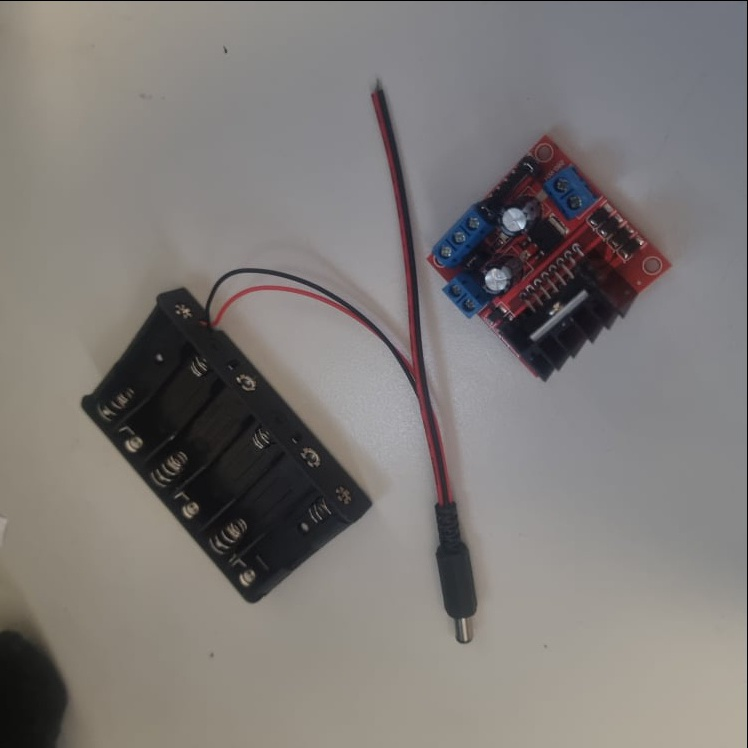BATTERY BOX: (81, 284, 374, 601)
MOTOR: (423, 132, 675, 380)
